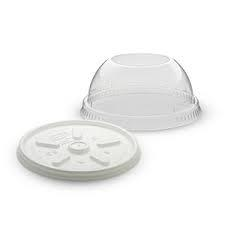Liquid: (14, 29, 209, 212)
